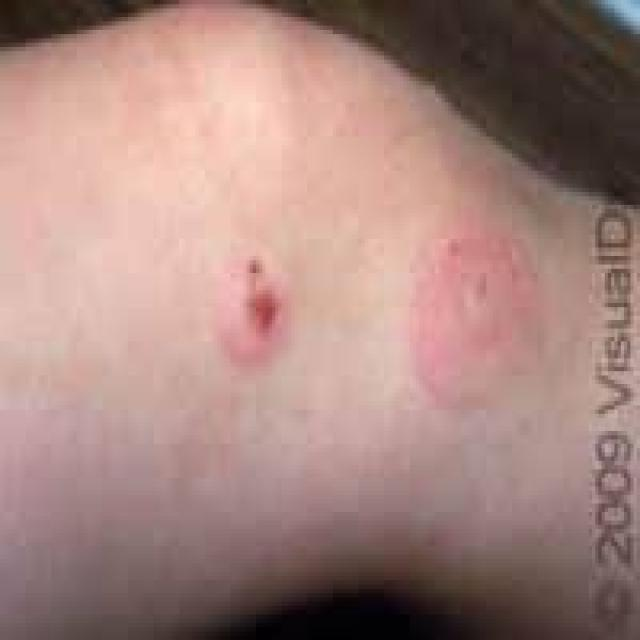Eczema: (406, 228, 550, 407), (210, 243, 296, 369)
